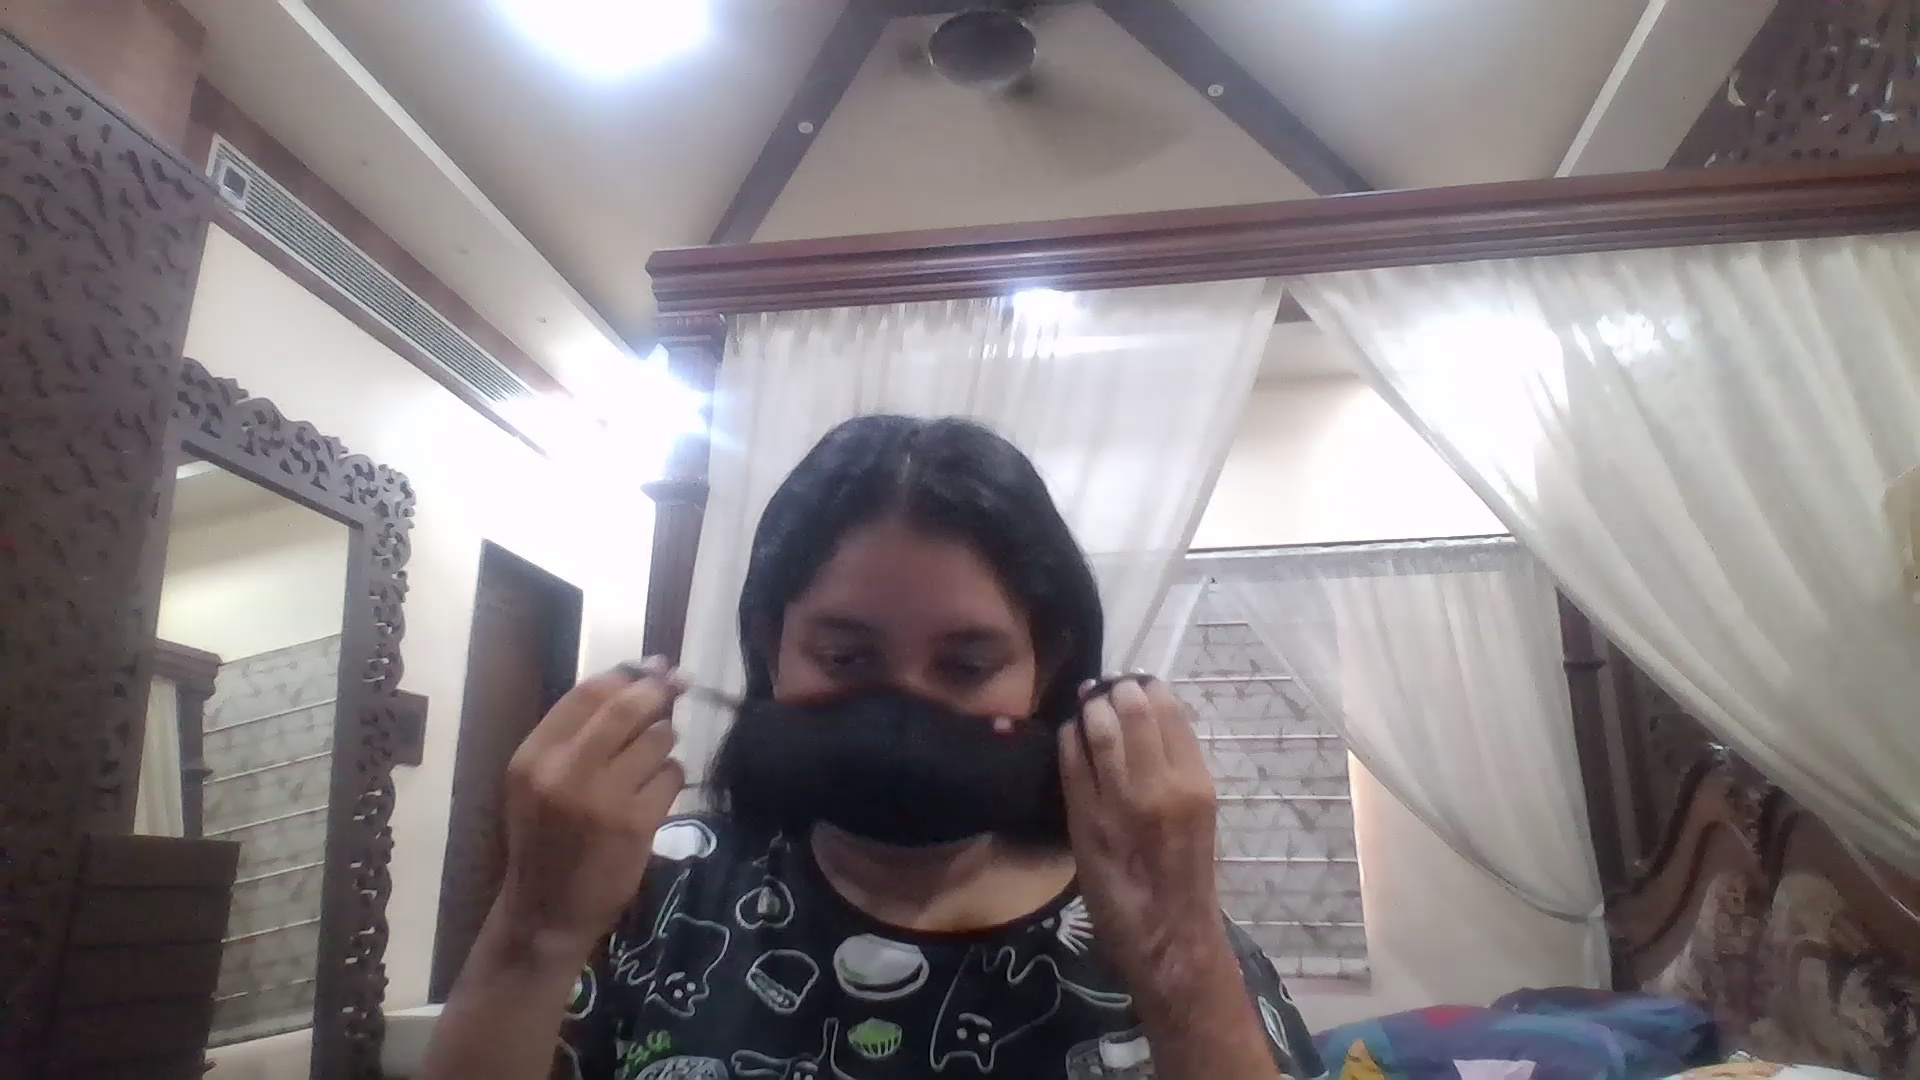Mask: (765, 695, 1053, 867)
